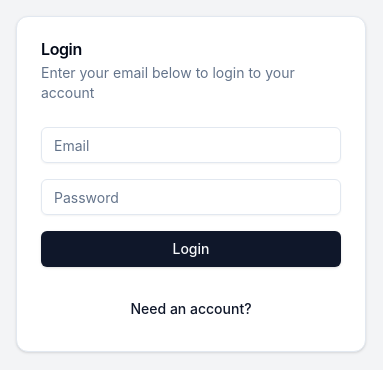
Test case: AuthForm › toggles between Login and Sign Up modes
expect the button "Login" is shown: met, box x1=41 y1=231 x2=341 y2=267
Note: Click 'Need an account?'
What coordinates should you click on to do the following:
click the button "Need an account?"
I would click on:
 (191, 309)
Its box is x1=114 y1=291 x2=268 y2=327.
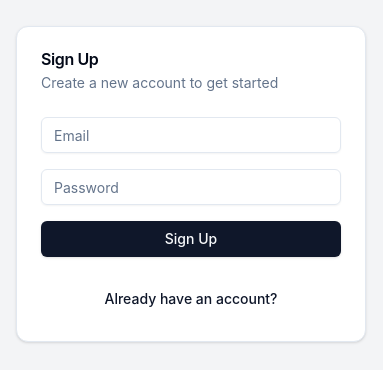
expect the button "Sign Up" is shown: met, box x1=41 y1=221 x2=341 y2=257
Note: Toggle back
What coordinates should you click on to do the following:
click the button "Already have an account?"
I would click on:
 (191, 299)
Its box is x1=88 y1=281 x2=294 y2=317.
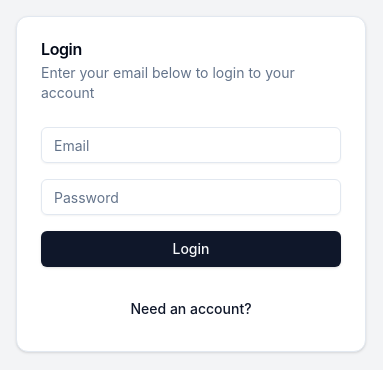
expect the button "Login" is shown: met, box x1=41 y1=231 x2=341 y2=267
